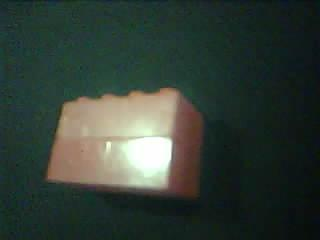lego: (43, 86, 203, 199)
